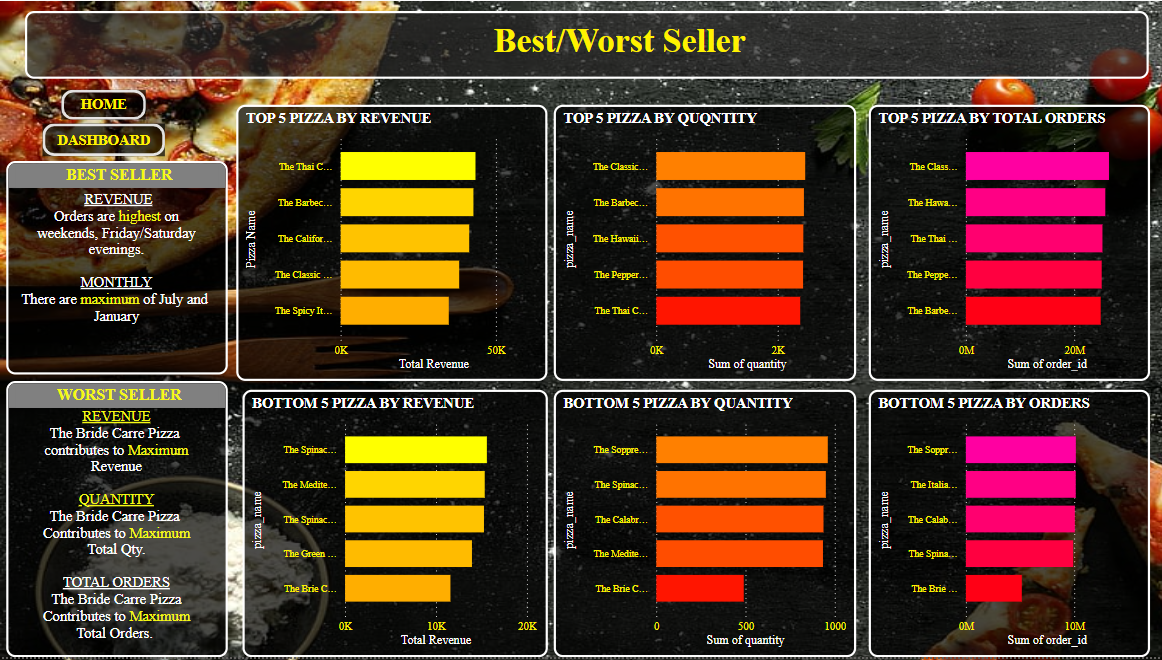

The page's visual inventory and layout, read from the dashboard file:
{"tool":"powerbi","page":{"name":"Best/Worst Seller","canvas":[1280,720],"ordinal":2},"visuals":[{"type":"textbox","box":[28.1,11,1233.8,74.6],"z":0},{"type":"actionButton","box":[67.3,97.8,92.9,33],"z":1000},{"type":"actionButton","box":[46.7,134.5,134.5,35.7],"z":2000},{"type":"textbox","title":" BEST SELLER","box":[6.9,175.6,242.9,234.6],"z":3000},{"type":"clusteredBarChart","title":" TOP 5 PIZZA BY REVENUE","fields":{"Category":["pizza_sales.pizza_name"],"Y":["measures (2).Total Revenue"]},"box":[259.3,113.9,341.7,303.3],"z":4000},{"type":"clusteredBarChart","title":"TOP 5 PIZZA BY QUQNTITY","fields":{"Category":["pizza_sales.pizza_name"],"Y":["Sum(pizza_sales.quantity)"]},"box":[607.9,113.9,332.1,303.3],"z":5000},{"type":"clusteredBarChart","title":"TOP 5 PIZZA BY TOTAL ORDERS","fields":{"Category":["pizza_sales.pizza_name"],"Y":["Sum(pizza_sales.order_id)"]},"box":[953.7,113.9,308.7,303.3],"z":6000},{"type":"clusteredBarChart","title":"BOTTOM 5 PIZZA BY REVENUE","fields":{"Y":["measures (2).Total Revenue"],"Category":["pizza_sales.pizza_name"]},"box":[266.2,426.8,334.8,293.7],"z":7000},{"type":"clusteredBarChart","title":"BOTTOM 5 PIZZA BY QUANTITY","fields":{"Y":["Sum(pizza_sales.quantity)"],"Category":["pizza_sales.pizza_name"]},"box":[607.9,426.8,332.1,293.7],"z":8000},{"type":"clusteredBarChart","title":"BOTTOM 5 PIZZA BY ORDERS","fields":{"Y":["Sum(pizza_sales.order_id)"],"Category":["pizza_sales.pizza_name"]},"box":[953.7,426.8,308.7,293.7],"z":9000},{"type":"textbox","title":"WORST SELLER","box":[6.9,417.2,242.9,303.3],"z":10000}]}

Visuals, with their boxes in screenshot pixels (x1, y1, x2, y2), scaled from the page's 1280x720 canvas onto the 1162x660 screenshot:
textbox: detection(26, 10, 1146, 78)
actionButton: detection(61, 90, 145, 120)
actionButton: detection(42, 123, 164, 156)
" BEST SELLER" textbox: detection(6, 161, 227, 376)
" TOP 5 PIZZA BY REVENUE" clusteredBarChart: detection(235, 104, 546, 382)
"TOP 5 PIZZA BY QUQNTITY" clusteredBarChart: detection(552, 104, 853, 382)
"TOP 5 PIZZA BY TOTAL ORDERS" clusteredBarChart: detection(866, 104, 1146, 382)
"BOTTOM 5 PIZZA BY REVENUE" clusteredBarChart: detection(242, 391, 546, 659)
"BOTTOM 5 PIZZA BY QUANTITY" clusteredBarChart: detection(552, 391, 853, 659)
"BOTTOM 5 PIZZA BY ORDERS" clusteredBarChart: detection(866, 391, 1146, 659)
"WORST SELLER" textbox: detection(6, 382, 227, 659)
